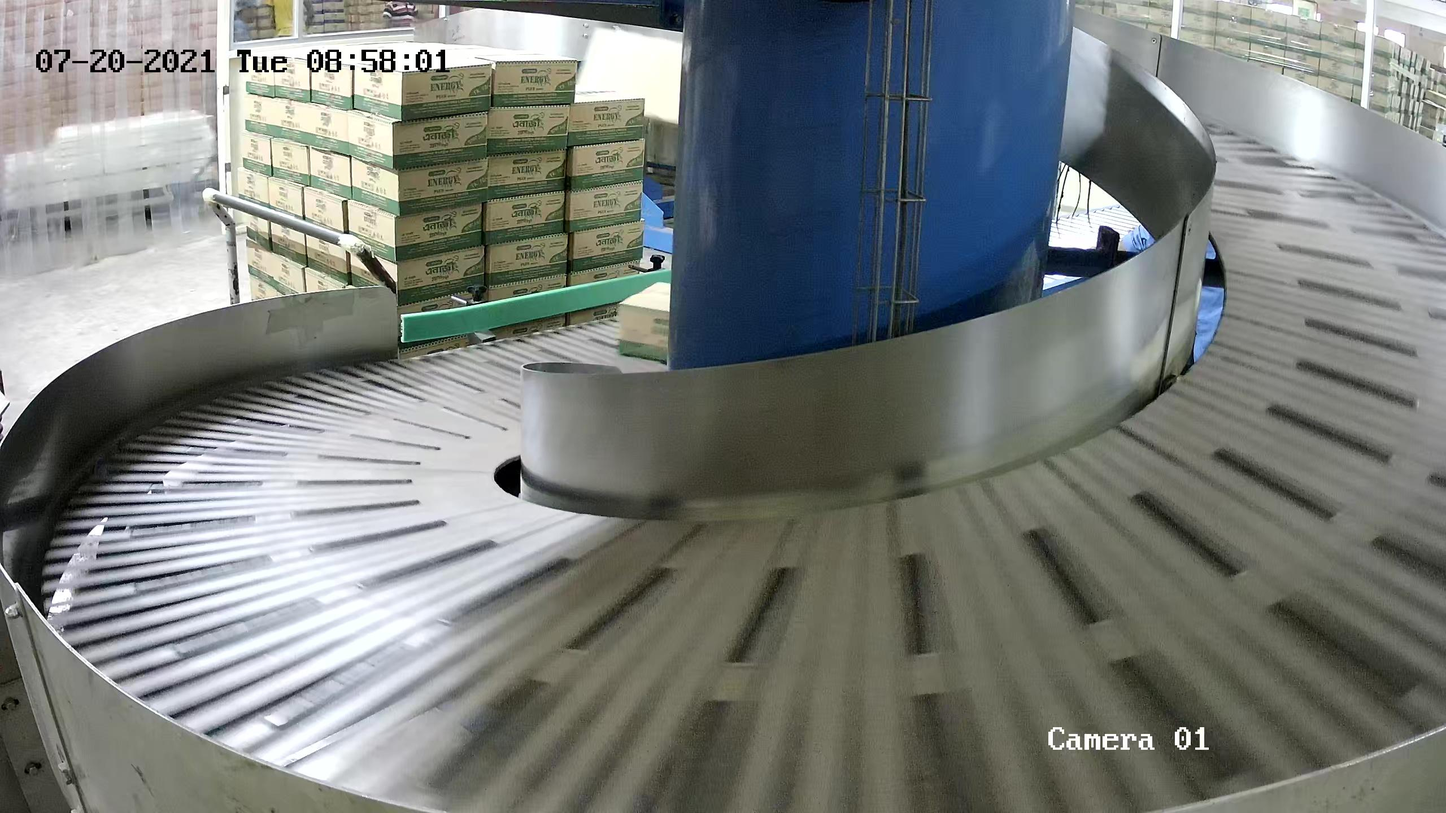Box: (616, 280, 671, 363)
